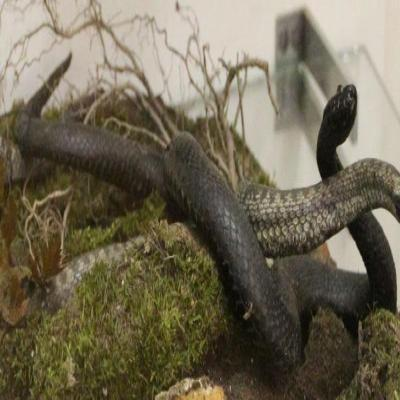natural_science_collection: (12, 55, 400, 376)
